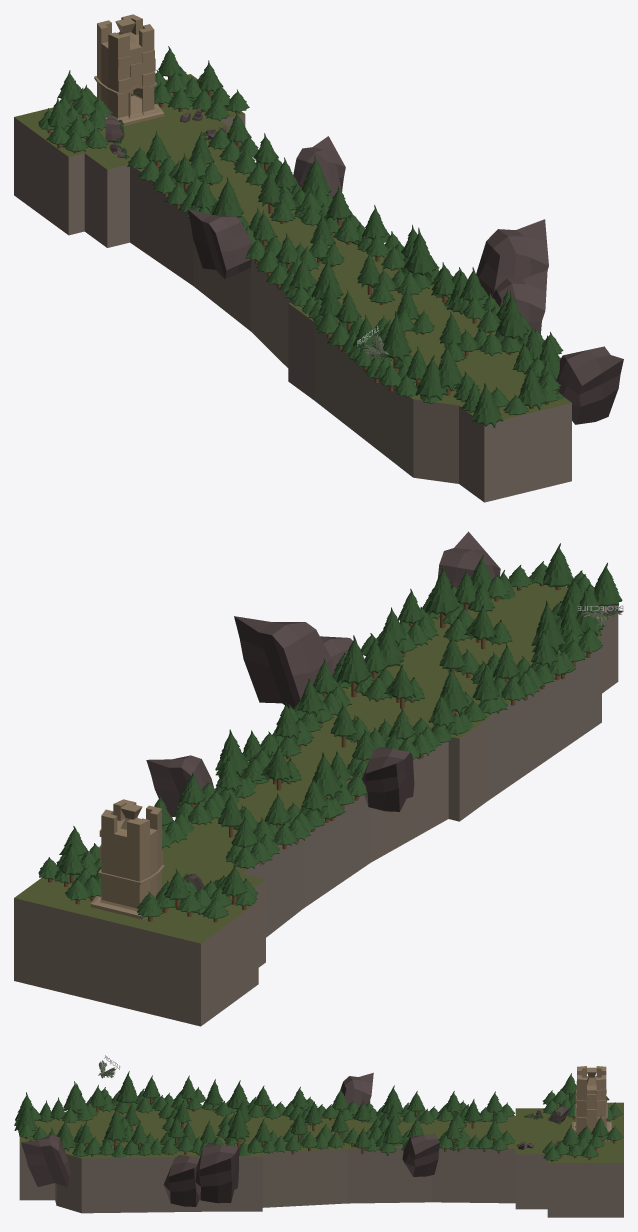
File: Map1.fbx
The picture shows the model from 3 angles, top to bottom: view 1: azimuth 30°, elevation 25°; view 2: azimuth 150°, elevation 25°; view 3: azimuth 270°, elevation 25°; orthographic projection. The views are drawn at different scales.
Visible parts, largest first — view 1: Cube, Tree's, rocks, Castle; view 2: Cube, Tree's, rocks, Castle; view 3: Cube, Tree's, rocks, Castle.
Boxes of the visible parts, <box> form: Cube: <box>14,74,571,502</box>; Tree's: <box>38,46,563,427</box>; rocks: <box>105,108,623,424</box>; Castle: <box>94,14,164,126</box>; Cube: <box>14,577,618,1026</box>; Tree's: <box>38,543,622,922</box>; rocks: <box>146,531,500,889</box>; Castle: <box>90,799,164,919</box>; Cube: <box>19,1102,623,1217</box>; Tree's: <box>14,1071,623,1161</box>; rocks: <box>21,1072,568,1206</box>; Castle: <box>572,1066,611,1142</box>.
Bounding box in the file's own units: 18755 × 10865 × 51001.
